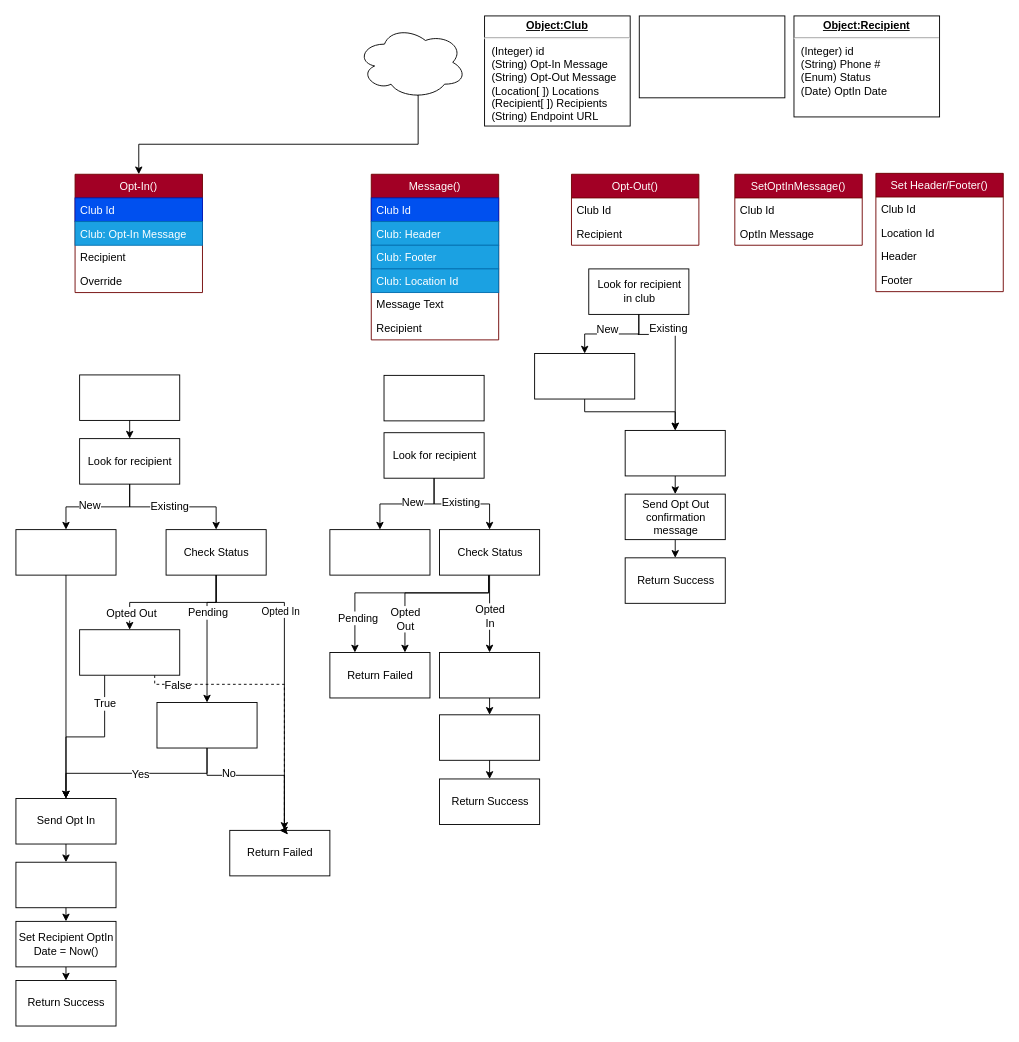
Image size: 1019x1042. Some labels were removed from this diagram. Each missing label, with the centre of its shape:
Attach Header & Footer to Msg Text: (x=489, y=675)
Create Recipient: (x=584, y=376)
Create Recipient (default status to Unverified): (x=65, y=552)
invoke Opt-In(): (x=379, y=552)
Lambda: (x=411, y=62)
Object:Location (Integer) id (String) Header (String) Footer: (x=711, y=56)
OptIn Date > 1 day ago?: (x=206, y=725)
Override (sent by staff): (x=129, y=652)
Send Message (Twilio): (x=489, y=737)
Set Recipient Status = Pending: (x=65, y=884)
Set Status = "Opted Out": (x=674, y=453)
Verify club (Header & Footer set): (x=433, y=397)
Verify club (Opt-In message set for club?): (x=129, y=397)
